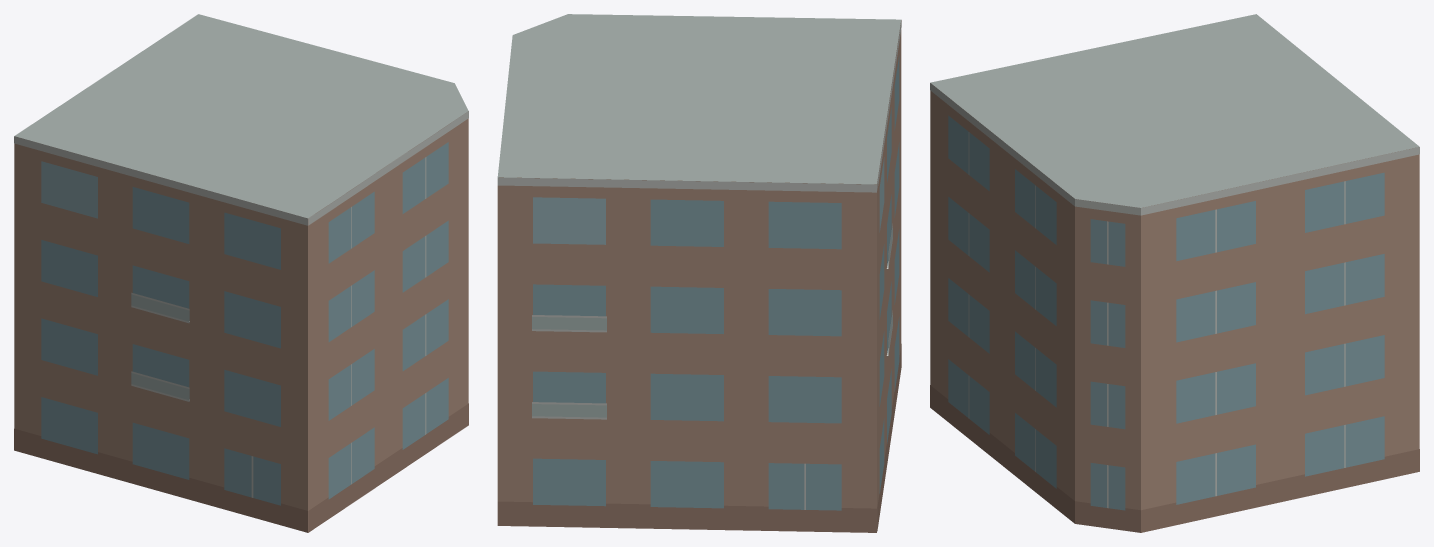
File: survey-upis-33038794.glb
The picture shows the model from 3 angles, left to right: view 1: azimuth 30°, elevation 25°; view 2: azimuth 150°, elevation 25°; view 3: azimuth 270°, elevation 25°; orthographic projection. The views are drawn at different scales.
Parts seen in each view (by area): view 1: survey-upis-33038794.tmp; view 2: survey-upis-33038794.tmp; view 3: survey-upis-33038794.tmp.
Boxes of the visible parts, x1,y1,x2,y2 form: survey-upis-33038794.tmp: (14, 14, 468, 532); survey-upis-33038794.tmp: (497, 14, 901, 532); survey-upis-33038794.tmp: (930, 14, 1419, 532).
Size of the model in its own units: 13.33 by 10.4 by 14.22.
